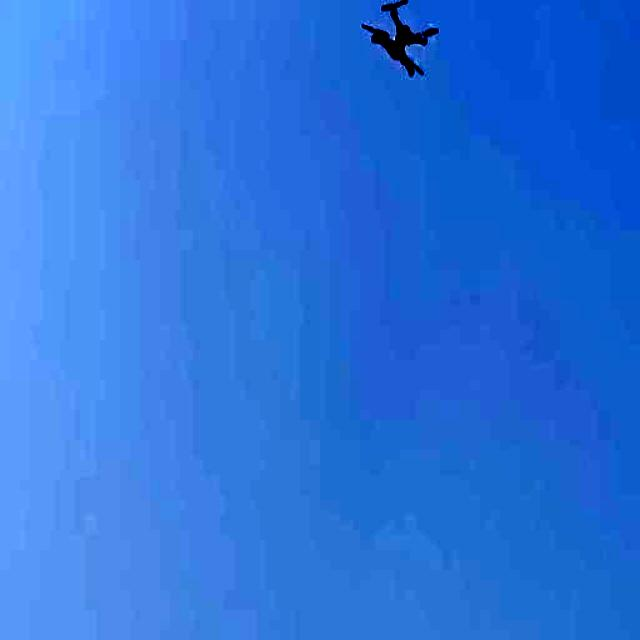bird: (358, 0, 439, 80)
